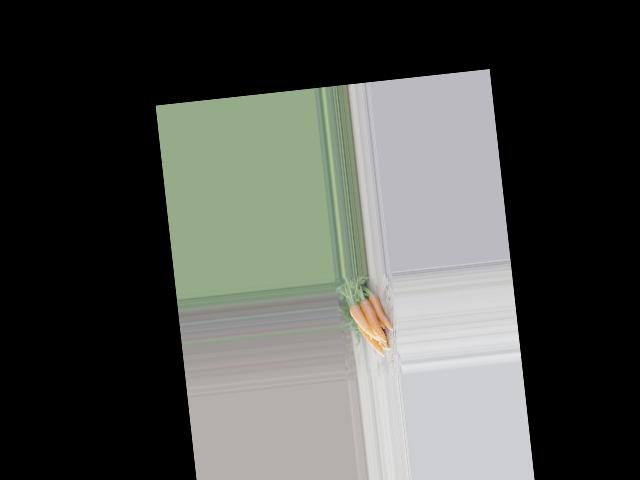carrot: (369, 288, 390, 334)
